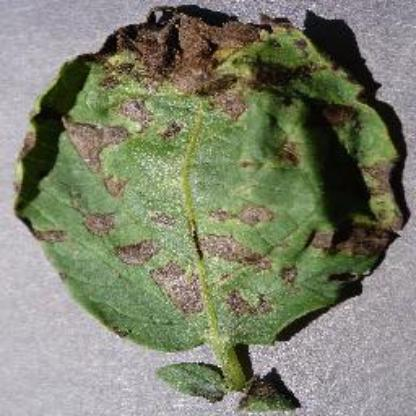Early-Blight: (15, 0, 415, 414)
